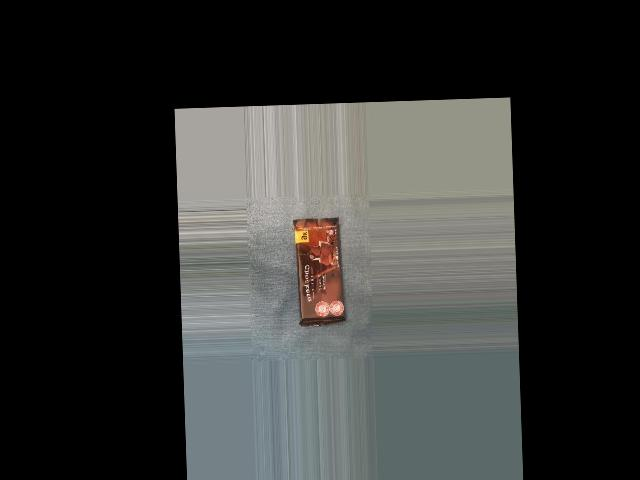chocolate: (285, 216, 352, 325)
